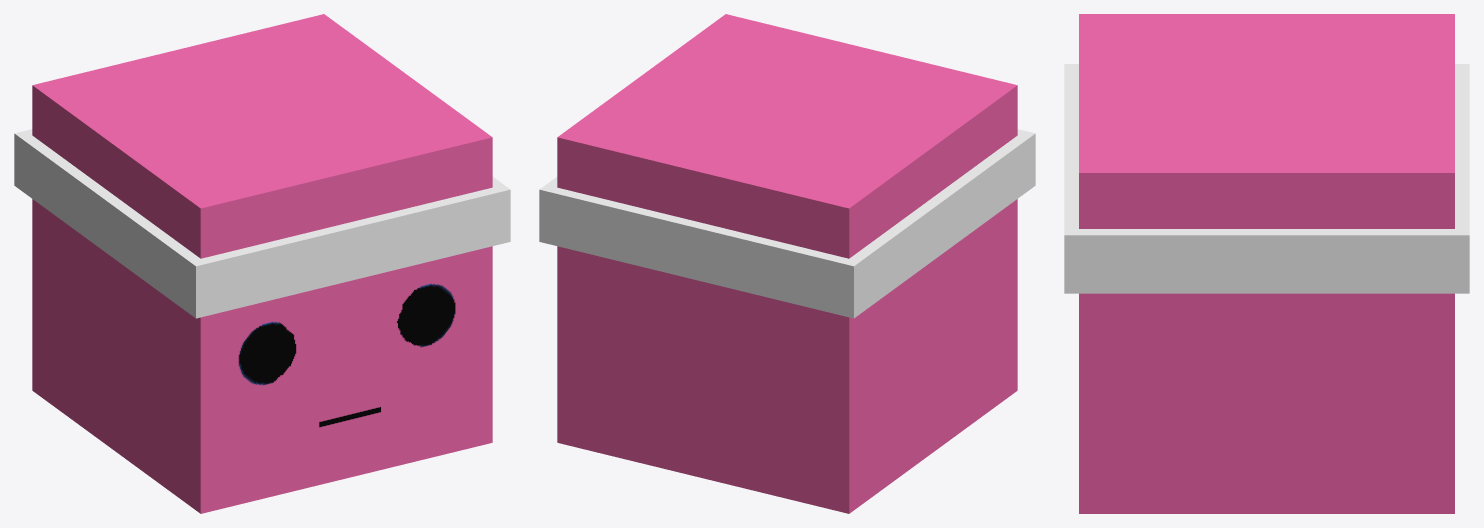
Rendered from agent.fbx.
3 renders of one model, left to right at view 1: azimuth 30°, elevation 25°; view 2: azimuth 150°, elevation 25°; view 3: azimuth 270°, elevation 25°, orthographic. The views are drawn at different scales.
Visible parts, largest first — view 1: Agent; view 2: Agent; view 3: Agent.
Boxes of the visible parts, x1,y1,x2,y2 form: Agent: [14, 14, 510, 513]; Agent: [539, 14, 1035, 513]; Agent: [1064, 14, 1469, 513].
Bounding box in the file's own units: 2.16 × 2 × 2.16.
Materials: 1 (1 with a texture image).
